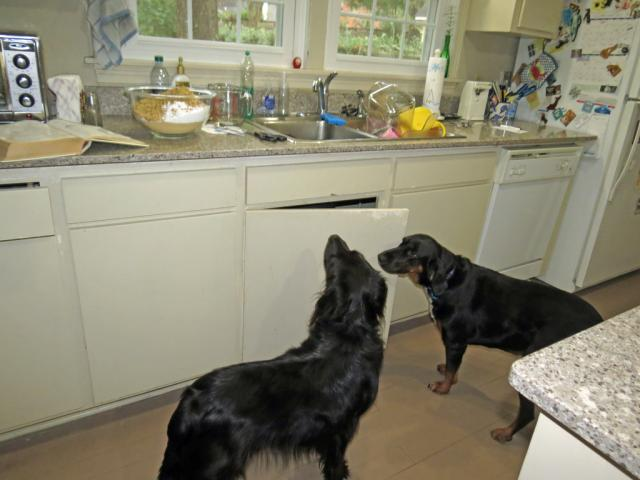Dog: (156, 233, 388, 480), (378, 232, 604, 444)
